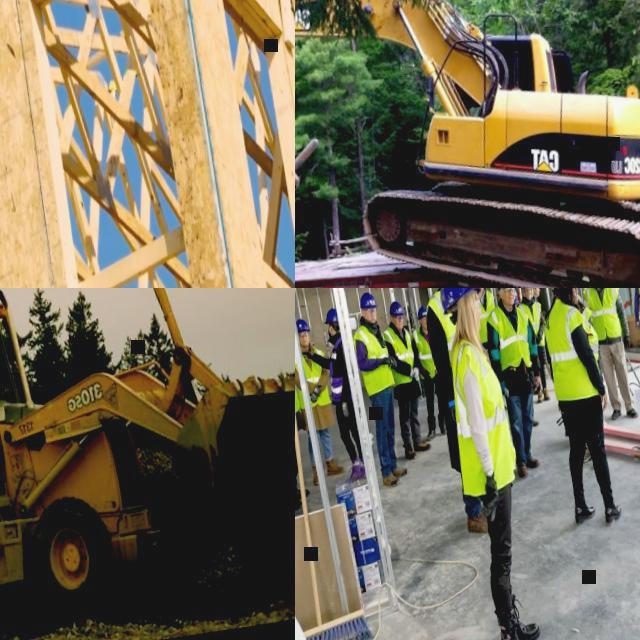helmet: (437, 288, 484, 314), (358, 289, 379, 309), (388, 298, 406, 316), (322, 306, 339, 323), (415, 303, 429, 320), (296, 316, 310, 332), (403, 303, 411, 310), (514, 288, 518, 300)
machinery: (0, 288, 295, 640), (295, 0, 640, 288)
mask: (327, 322, 334, 337)
no_mask: (365, 313, 378, 323), (504, 294, 516, 304), (477, 312, 483, 329), (394, 320, 404, 330), (300, 335, 310, 345), (572, 290, 578, 304), (534, 290, 540, 296), (526, 292, 532, 298), (422, 322, 428, 328)
person: (432, 288, 547, 640), (533, 288, 626, 532), (416, 288, 499, 535), (477, 288, 555, 480), (348, 288, 415, 486), (299, 304, 368, 489), (378, 296, 434, 460), (295, 312, 346, 486), (579, 288, 640, 422), (407, 302, 448, 441), (514, 288, 556, 404), (295, 313, 312, 511), (524, 288, 556, 391), (468, 288, 505, 358), (625, 288, 640, 367), (400, 302, 416, 330)
vehicle: (295, 118, 469, 288)
vest: (444, 330, 522, 496), (540, 292, 606, 402), (484, 298, 536, 371), (424, 288, 465, 372), (352, 320, 396, 397), (295, 343, 332, 408), (582, 288, 627, 341), (382, 322, 419, 386), (322, 334, 352, 404), (409, 324, 438, 380), (518, 298, 548, 348), (473, 288, 501, 341), (536, 298, 546, 334), (633, 288, 640, 328), (580, 304, 594, 320), (405, 312, 416, 331)
